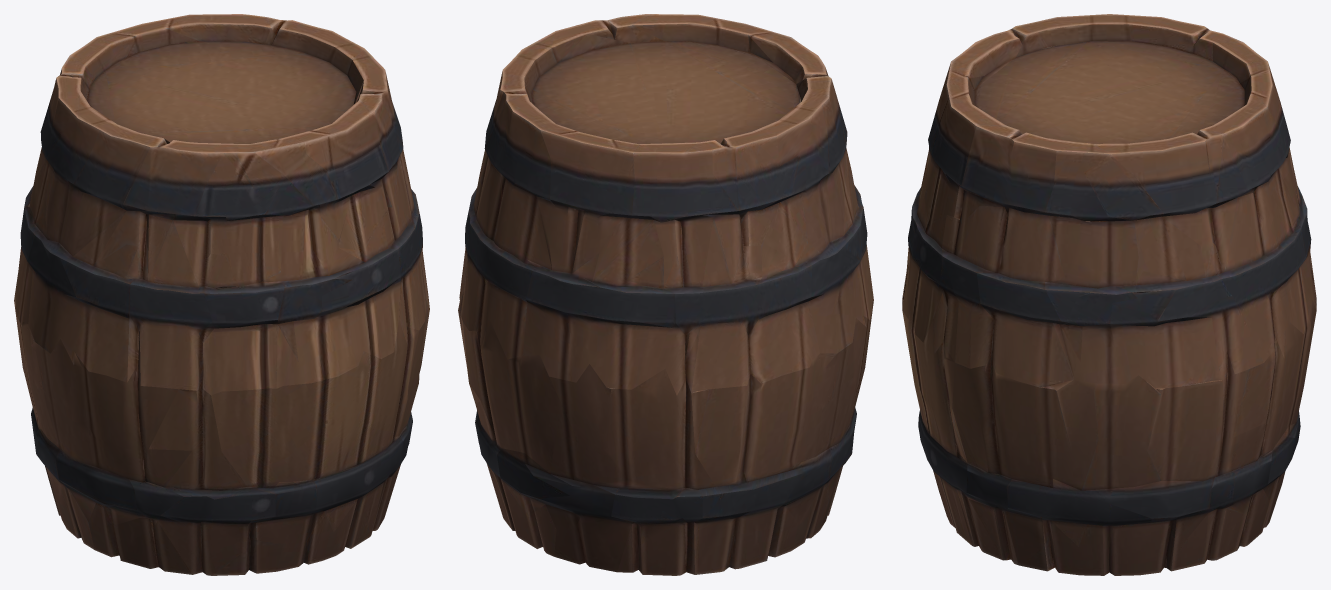
The model's file is barrel.glb.
The picture shows the model from 3 angles, left to right: view 1: azimuth 30°, elevation 25°; view 2: azimuth 150°, elevation 25°; view 3: azimuth 270°, elevation 25°; orthographic projection.
Parts seen in each view (by area): view 1: barrel; view 2: barrel; view 3: barrel.
Boxes of the visible parts, x1,y1,x2,y2 form: barrel: (14,14,429,575); barrel: (458,14,873,575); barrel: (902,14,1316,575).
Bounding box in the file's own units: 0.9748 × 1.1 × 0.9748.
Materials: 1 (1 with a texture image).
